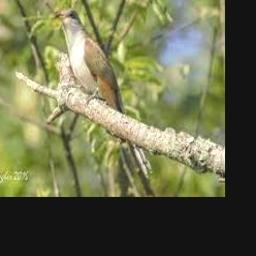Cuckoo: (55, 8, 152, 180)
